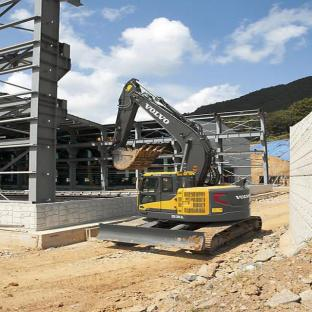ExcavationMachinery: (111, 76, 266, 252)
